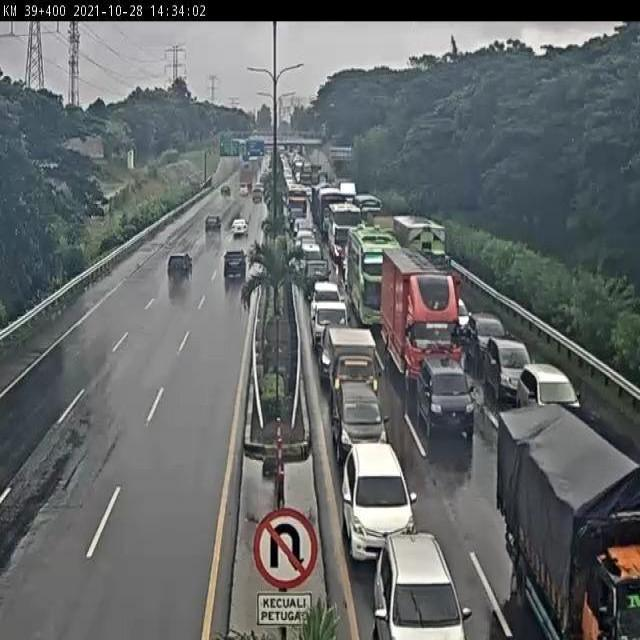big bus: (348, 228, 401, 329), (322, 202, 362, 258)
big truck: (484, 406, 640, 640), (380, 247, 459, 393), (392, 212, 456, 284)
car: (367, 512, 463, 639), (334, 429, 409, 539), (416, 350, 472, 438), (322, 328, 384, 405), (327, 382, 389, 458), (488, 339, 533, 401), (520, 364, 580, 409), (309, 296, 350, 352), (466, 313, 508, 360), (298, 258, 330, 298), (165, 252, 195, 287), (447, 293, 470, 335), (219, 253, 246, 287), (296, 238, 320, 266), (312, 278, 340, 302), (199, 220, 218, 248), (227, 224, 249, 245), (216, 181, 233, 203), (294, 222, 312, 242), (235, 185, 250, 207), (251, 188, 264, 209)
